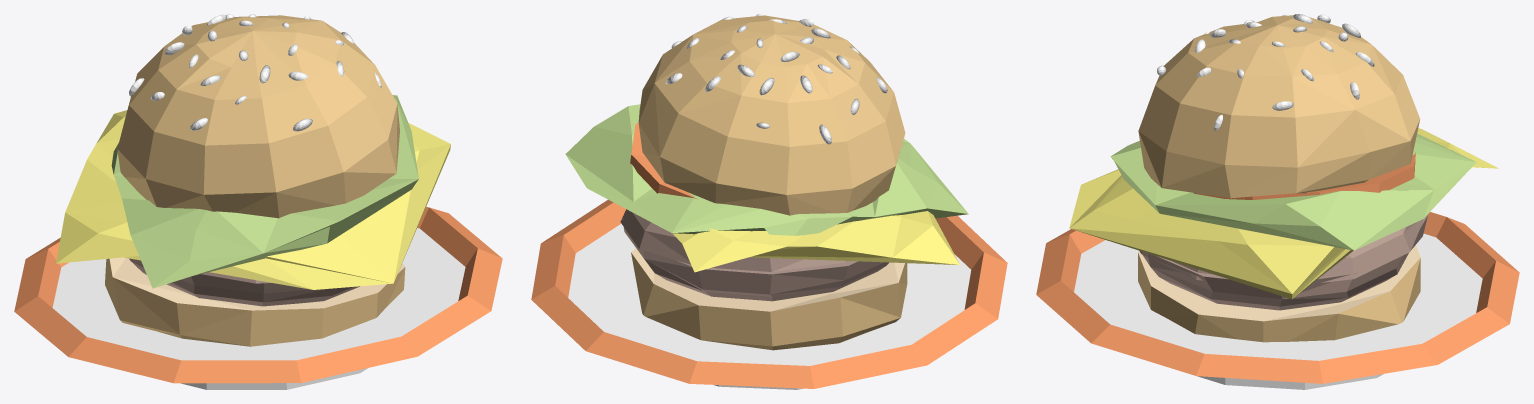
File: burgers.dae
3 renders of one model, left to right at view 1: azimuth 30°, elevation 25°; view 2: azimuth 150°, elevation 25°; view 3: azimuth 270°, elevation 25°, orthographic. The views are drawn at different scales.
Visible parts, largest first — view 1: burger; view 2: burger; view 3: burger.
Boxes of the visible parts, x1,y1,x2,y2 form: burger: (14,14,502,389); burger: (531,14,1007,389); burger: (1036,14,1519,389).
Bounding box in the file's own units: 1.03 × 1.02 × 0.7081.
